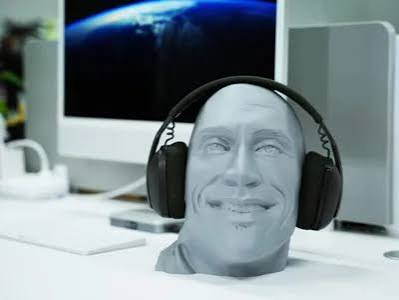3d print: (156, 84, 304, 276)
